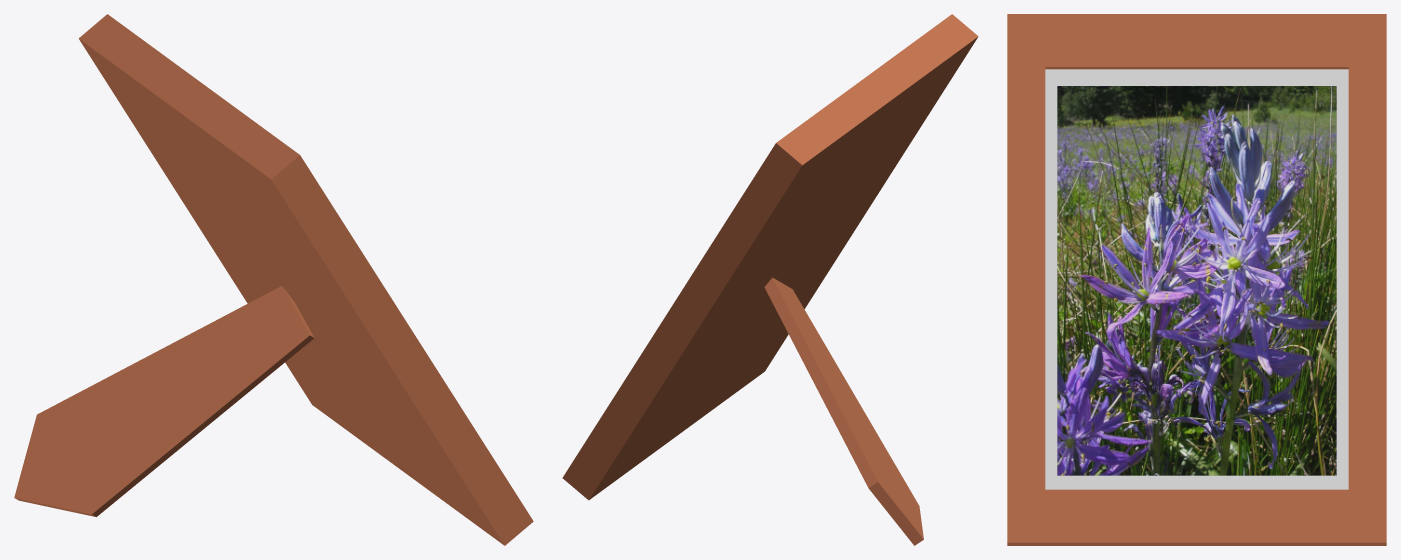
Rendered from picture-frame-1-0.glb.
3 renders of one model, left to right at view 1: azimuth 30°, elevation 25°; view 2: azimuth 150°, elevation 25°; view 3: azimuth 270°, elevation 25°, orthographic. The views are drawn at different scales.
Parts seen in each view (by area): view 1: Plane, Plane.001; view 2: Plane, Plane.001; view 3: Plane.
Boxes of the visible parts, bbox=[...] form: Plane: bbox=[78, 14, 533, 545]; Plane.001: bbox=[14, 286, 314, 516]; Plane: bbox=[562, 14, 978, 500]; Plane.001: bbox=[764, 277, 923, 545]; Plane: bbox=[1007, 14, 1386, 545].
Bounding box in the file's own units: 2.16 × 2.52 × 2.
Materials: 3 (1 with a texture image).
